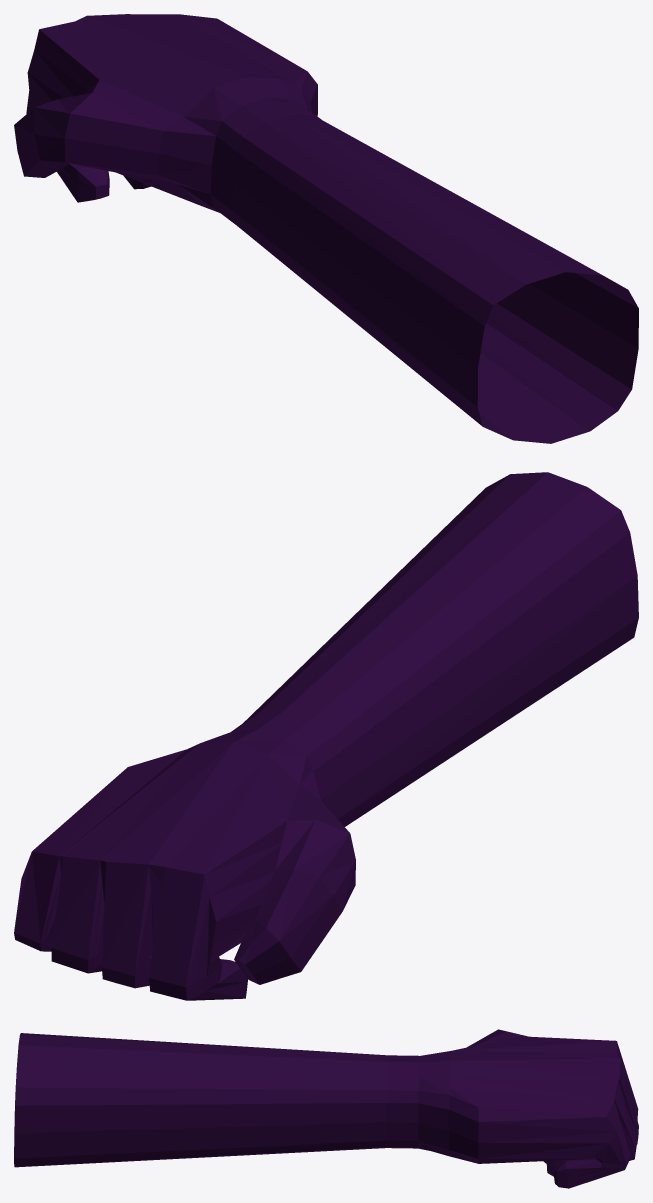
File: Boss_ArmR_Gu.obj
3 renders of one model, top to bottom at view 1: azimuth 30°, elevation 25°; view 2: azimuth 150°, elevation 25°; view 3: azimuth 270°, elevation 25°, orthographic. The views are drawn at different scales.
Parts seen in each view (by area): view 1: 立方体.002; view 2: 立方体.002; view 3: 立方体.002.
Boxes of the visible parts, <box> form: 立方体.002: <box>14,14,638,443</box>; 立方体.002: <box>14,472,638,1000</box>; 立方体.002: <box>14,1029,638,1188</box>.
Bounding box in the file's own units: 1.43 × 1.06 × 4.48.
Materials: 1 (1 with a texture image).
